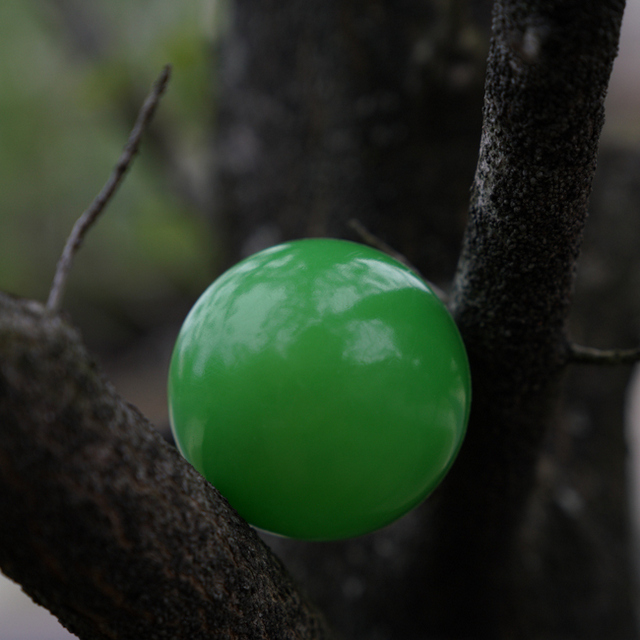Ball: (169, 238, 467, 540)
